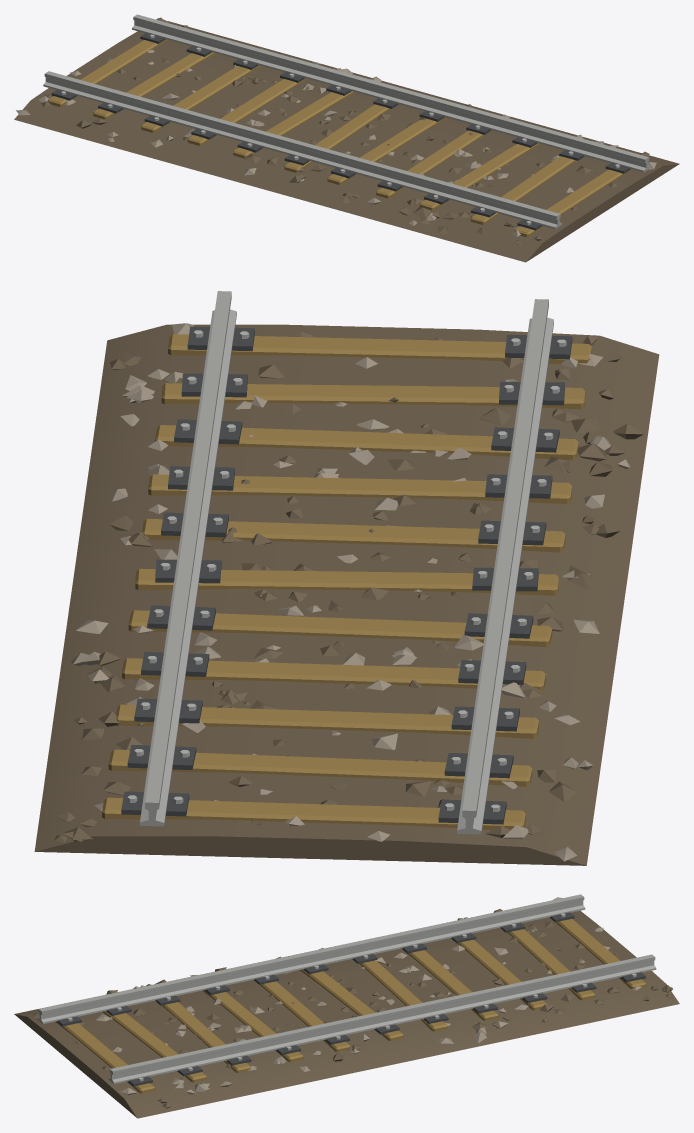
The model's file is half-diagonal-rail.glb.
3 renders of one model, top to bottom at view 1: azimuth 30°, elevation 25°; view 2: azimuth 150°, elevation 25°; view 3: azimuth 270°, elevation 25°, orthographic. The views are drawn at different scales.
Parts seen in each view (by area): view 1: body; view 2: body; view 3: body.
Part boxes in pixels (<box>): body: <box>14,14,679,262</box>; body: <box>34,291,659,865</box>; body: <box>14,894,679,1118</box>.
Bounding box in the file's own units: 3.82 × 0.2152 × 4.91.
